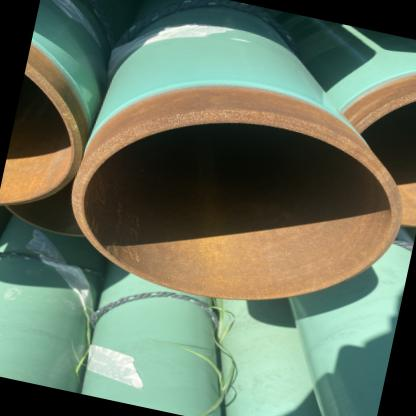clean: (265, 99, 315, 146)
